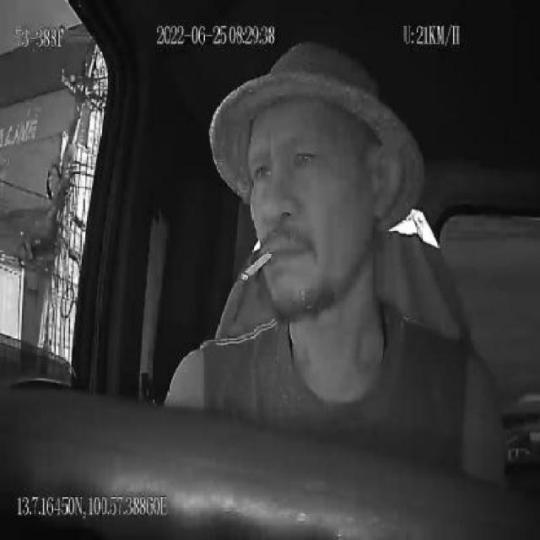smoking: (239, 247, 273, 285)
